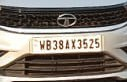plate: (29, 33, 105, 55)
